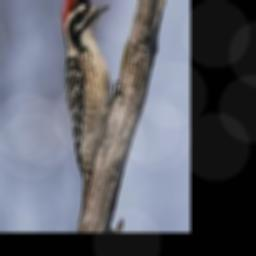Woodpecker: (60, 0, 123, 208)
